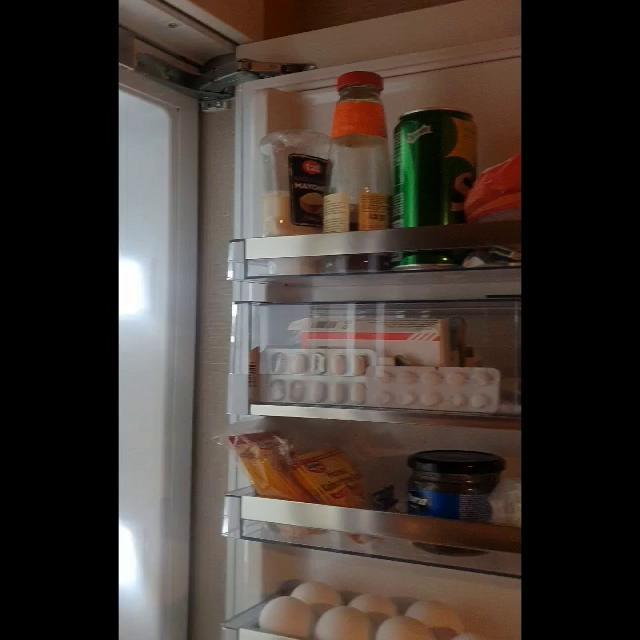eggs: (258, 596, 314, 638), (403, 599, 461, 634), (314, 606, 371, 638), (372, 617, 437, 639), (293, 581, 343, 609), (350, 594, 399, 619)
